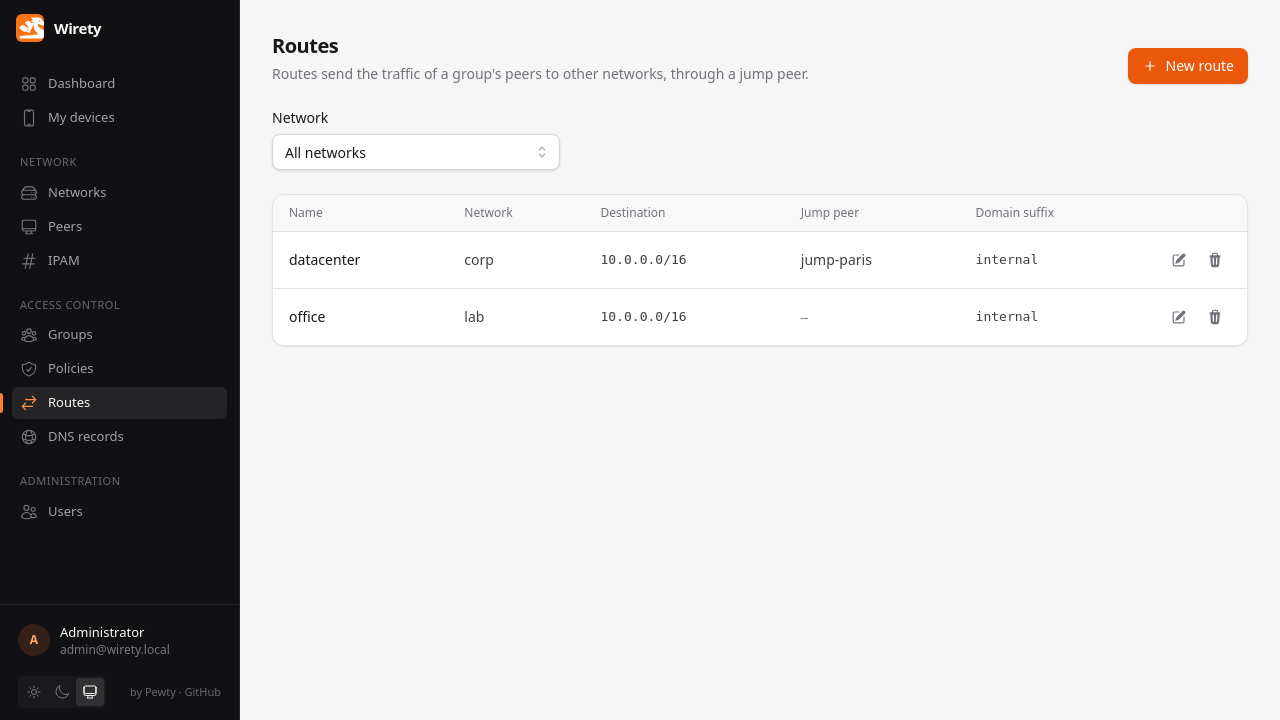
Test case: Routes › filters the list by network
This screenshot has width=1280, height=720.
Check: the text "office" is shown, box left=289, top=307, right=325, bottom=326
Click the dropdown labelled "Network" at [416, 152], box left=272, top=134, right=560, bottom=170
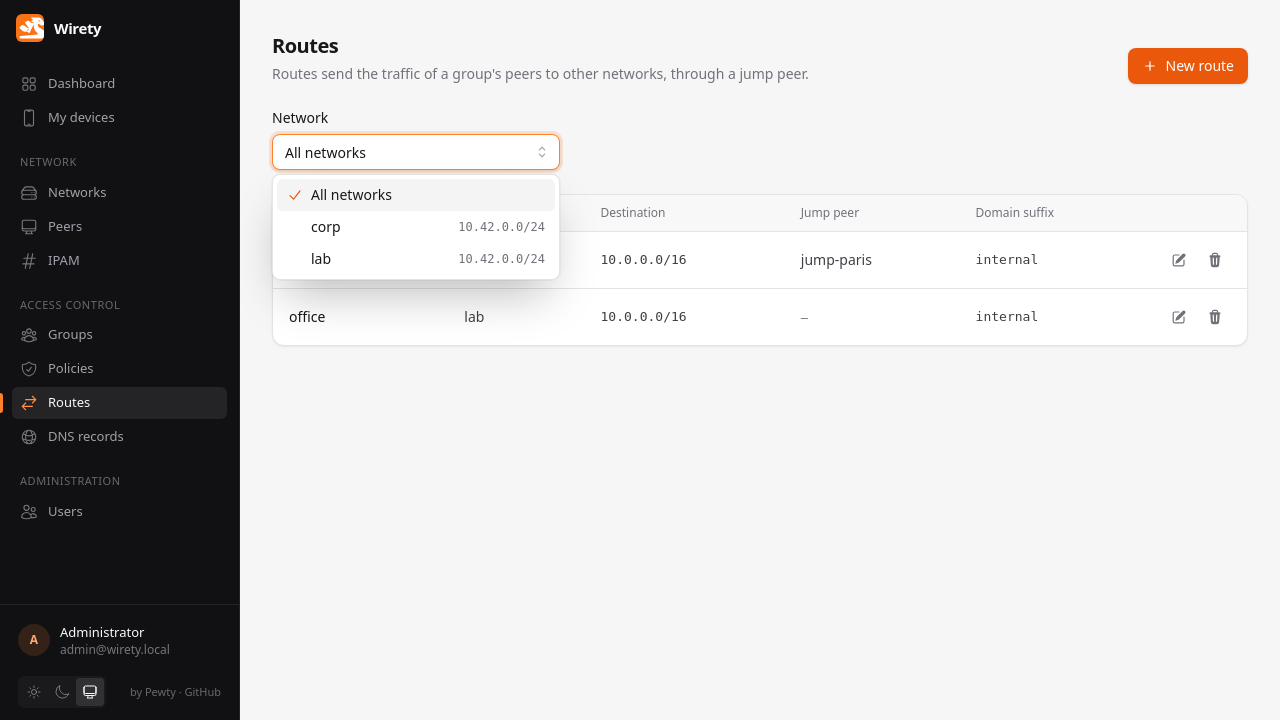
Click the option "lab 10.42.0.0/24" at [502, 259], box left=311, top=249, right=545, bottom=268
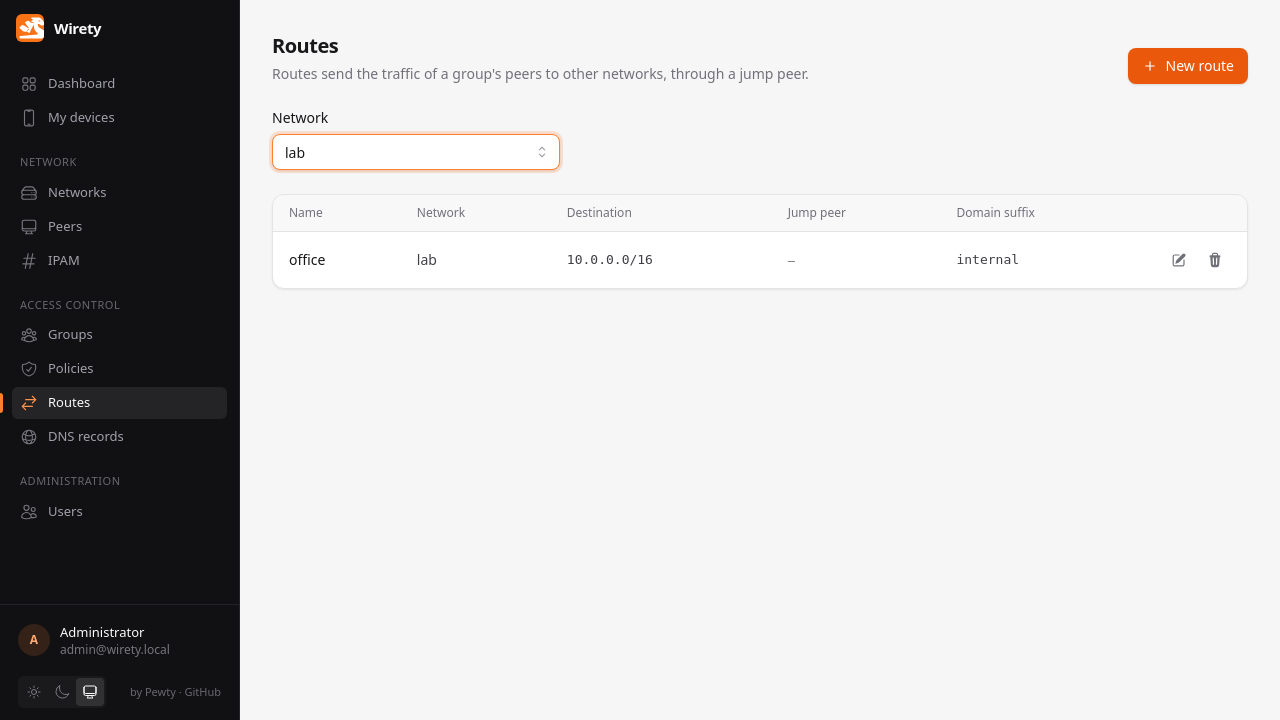
Check: the text "office" is shown, box left=289, top=250, right=325, bottom=269
Check: the text "datacenter" is gone
